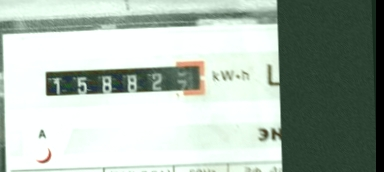1: (50, 75, 59, 94)
2: (149, 70, 161, 91)
5: (72, 75, 86, 94)
7: (173, 76, 185, 89)
8: (123, 71, 136, 92), (99, 73, 111, 93)
screen: (38, 58, 208, 103)
